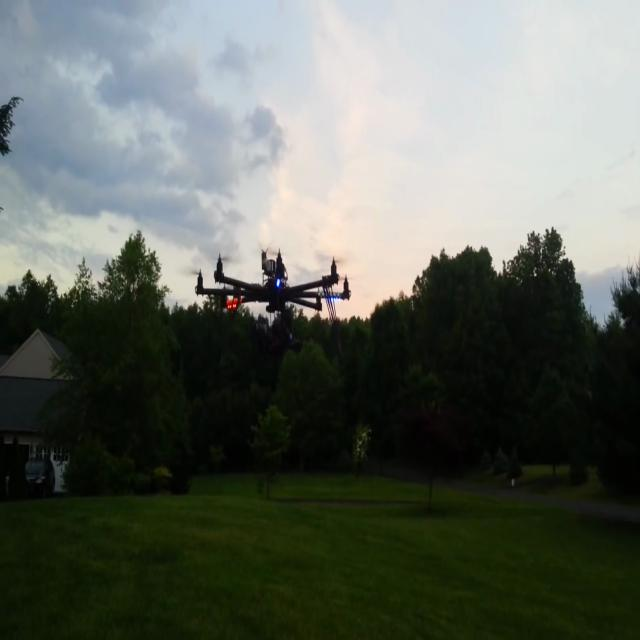drone: (184, 226, 356, 346)
